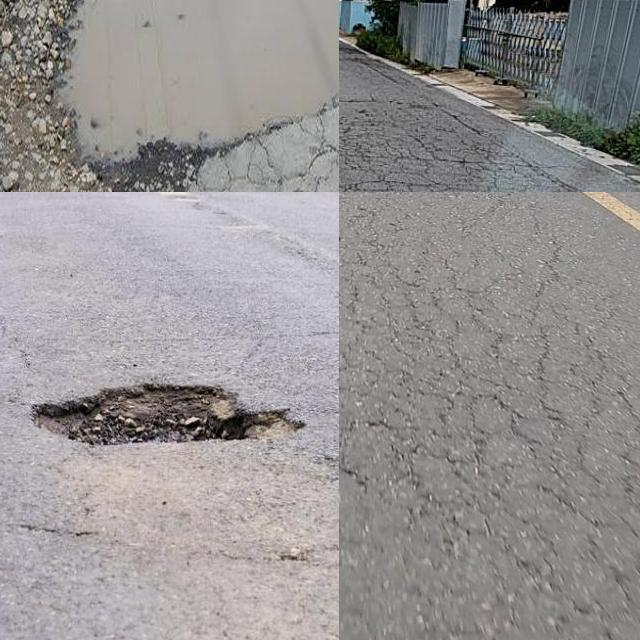Lubang: (63, 0, 339, 182), (33, 384, 302, 445)
Retak Buaya: (339, 192, 640, 638), (339, 96, 498, 192)
